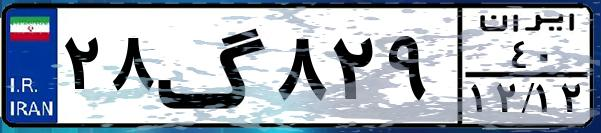0: (537, 27, 568, 80)
1: (470, 70, 495, 125), (535, 70, 560, 125)
2: (330, 28, 385, 110), (57, 26, 110, 100), (560, 70, 590, 125), (495, 70, 520, 125)
4: (508, 27, 537, 80)
8: (270, 28, 330, 110), (110, 28, 156, 98)
9: (385, 28, 445, 110)
گ: (156, 12, 270, 120)
